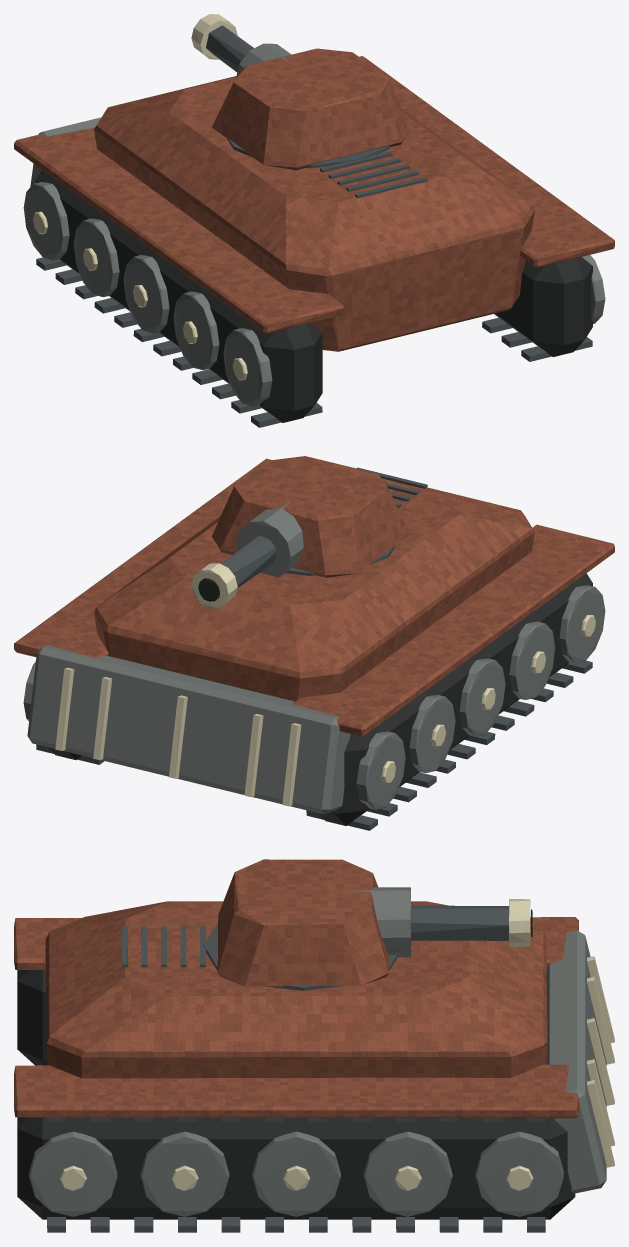
3 renders of one model, top to bottom at view 1: azimuth 30°, elevation 25°; view 2: azimuth 150°, elevation 25°; view 3: azimuth 270°, elevation 25°, orthographic. The views are drawn at different scales.
Visible parts, largest first — view 1: ST2-E02_Mesh, Track_L_Mesh, TurretYaw_Mesh, Track_R_Mesh, BarrelRecoil_Mesh; view 2: ST2-E02_Mesh, Track_L_Mesh, TurretYaw_Mesh, BarrelRecoil_Mesh, Track_R_Mesh; view 3: ST2-E02_Mesh, Track_R_Mesh, TurretYaw_Mesh, BarrelRecoil_Mesh, Track_L_Mesh.
Boxes of the visible parts, left/top/right/bottom form: ST2-E02_Mesh: left=14, top=56, right=614, bottom=351; Track_L_Mesh: left=23, top=166, right=322, bottom=427; TurretYaw_Mesh: left=212, top=48, right=410, bottom=170; Track_R_Mesh: left=482, top=255, right=605, bottom=361; BarrelRecoil_Mesh: left=191, top=14, right=291, bottom=77; ST2-E02_Mesh: left=14, top=458, right=614, bottom=814; Track_L_Mesh: left=306, top=573, right=605, bottom=830; TurretYaw_Mesh: left=211, top=456, right=410, bottom=577; BarrelRecoil_Mesh: left=191, top=501, right=303, bottom=608; Track_R_Mesh: left=23, top=661, right=104, bottom=764; ST2-E02_Mesh: left=14, top=901, right=614, bottom=1193; Track_R_Mesh: left=17, top=1117, right=575, bottom=1232; TurretYaw_Mesh: left=203, top=859, right=397, bottom=990; BarrelRecoil_Mesh: left=350, top=887, right=532, bottom=957; Track_L_Mesh: left=17, top=970, right=47, bottom=1065.
Size of the model in its own units: 3.26 by 1.99 by 4.31.
5 materials, 1 textured.
